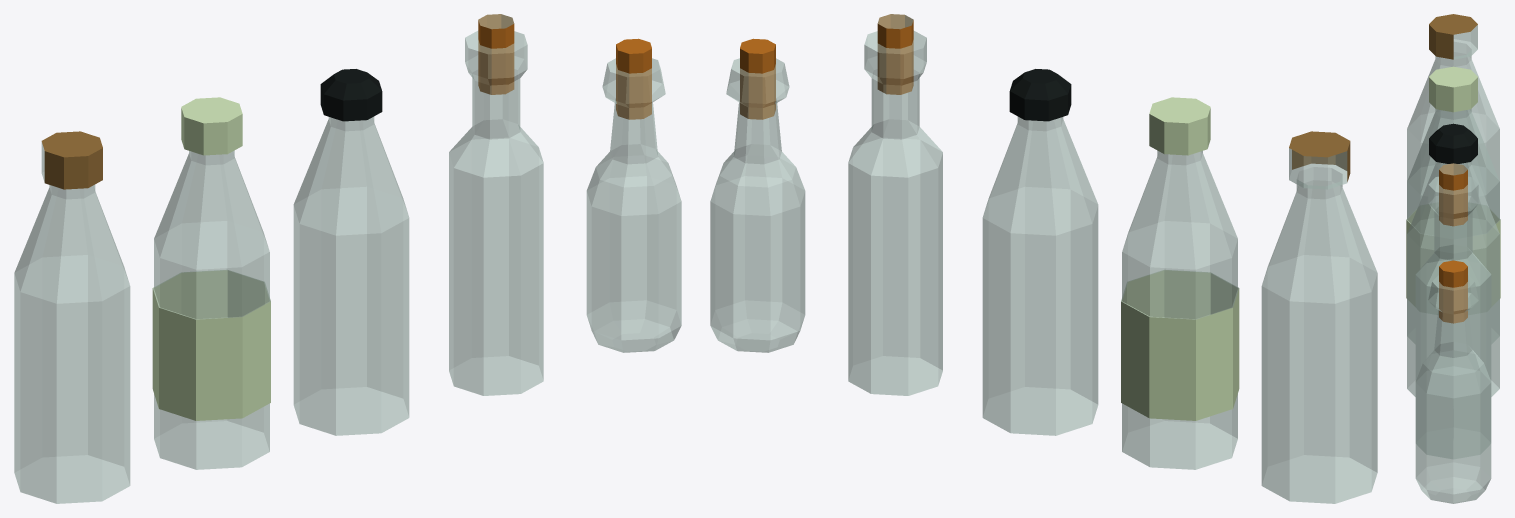
The model's file is Bottles.fbx.
The picture shows the model from 3 angles, left to right: view 1: azimuth 30°, elevation 25°; view 2: azimuth 150°, elevation 25°; view 3: azimuth 270°, elevation 25°; orthographic projection. The views are drawn at different scales.
Visible parts, largest first — view 1: Cylinder.020, Cylinder.019, Cylinder.021, Cylinder.022, Cylinder.023; view 2: Cylinder.020, Cylinder.019, Cylinder.021, Cylinder.022, Cylinder.023; view 3: Cylinder.022, Cylinder.023, Cylinder.021, Cylinder.020, Cylinder.019.
Boxes of the visible parts, box(x1,y1,x2,y2) form: Cylinder.020: box(152, 97, 270, 469); Cylinder.019: box(14, 131, 130, 503); Cylinder.021: box(293, 69, 409, 435); Cylinder.022: box(449, 14, 543, 395); Cylinder.023: box(586, 38, 681, 352); Cylinder.020: box(1121, 97, 1239, 469); Cylinder.019: box(1261, 131, 1377, 503); Cylinder.021: box(982, 69, 1098, 435); Cylinder.022: box(848, 14, 942, 395); Cylinder.023: box(710, 38, 805, 352); Cylinder.022: box(1415, 163, 1491, 458); Cylinder.023: box(1415, 260, 1491, 503); Cylinder.021: box(1407, 123, 1499, 396); Cylinder.020: box(1406, 66, 1500, 342); Cylinder.019: box(1407, 14, 1499, 217).
Size of the model in its own units: 88.58 by 45.71 by 14.31.
